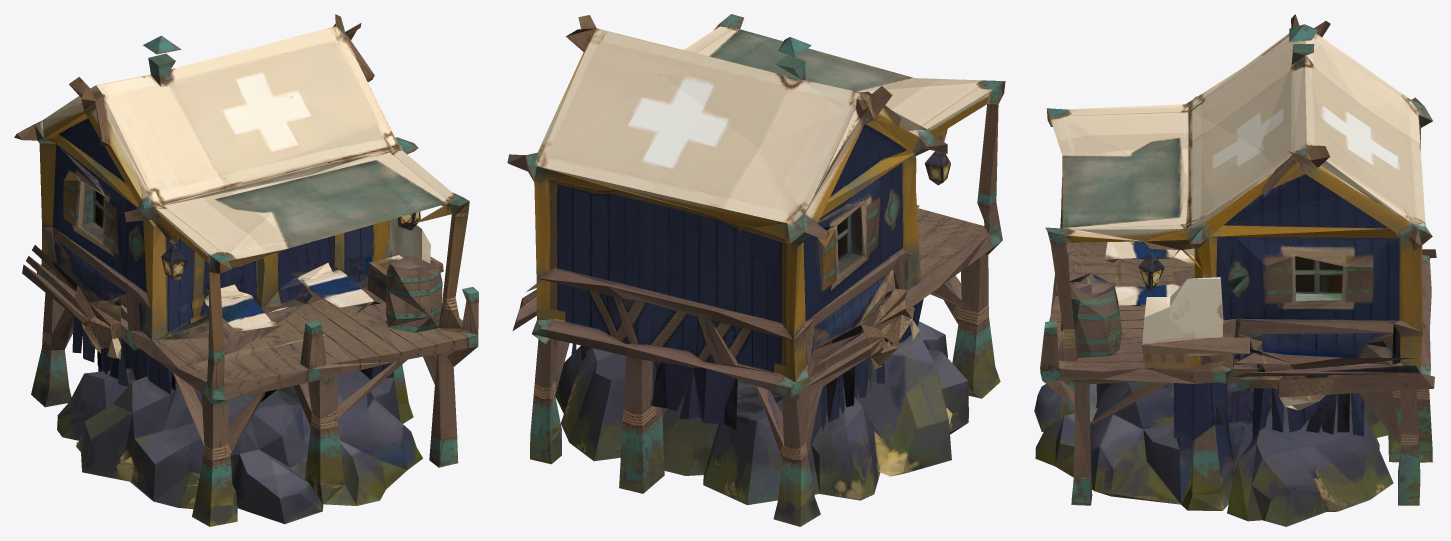
The model's file is infirmary.glb.
3 views of the same model, side by side, from view 1: azimuth 30°, elevation 25°; view 2: azimuth 150°, elevation 25°; view 3: azimuth 270°, elevation 25° (orthographic). The views are drawn at different scales.
Bounding box in the file's own units: 1.73 × 1.9 × 1.76.
Materials: 1 (1 with a texture image).
